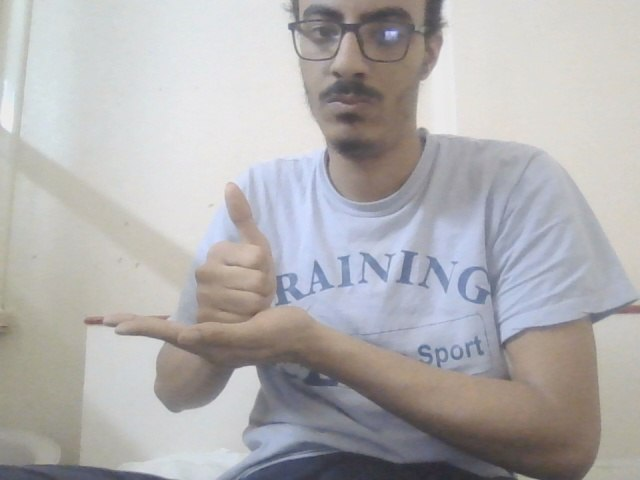Help: (99, 181, 333, 374)
